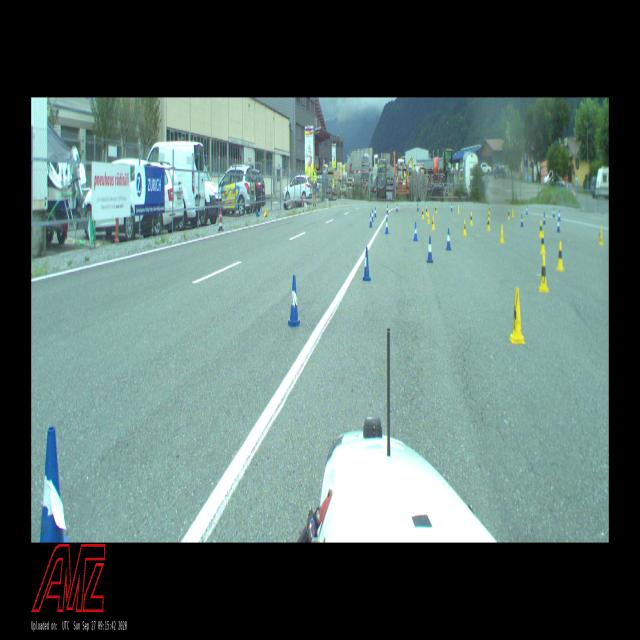blue_cone: (40, 426, 71, 542), (287, 276, 301, 326), (363, 248, 371, 281), (427, 236, 433, 263), (446, 228, 452, 251), (413, 222, 418, 241), (384, 217, 388, 234), (556, 218, 560, 232), (369, 213, 373, 227), (520, 215, 524, 228), (543, 212, 546, 225), (374, 207, 377, 217), (372, 209, 374, 222), (559, 210, 561, 222), (553, 208, 555, 218), (526, 205, 528, 215), (396, 203, 398, 212), (450, 203, 452, 212), (386, 205, 388, 214), (417, 203, 419, 212)
unknown_cone: (218, 202, 224, 231)
yellow_cone: (509, 287, 525, 344), (539, 255, 548, 292), (556, 242, 564, 270), (540, 231, 546, 254), (598, 226, 604, 245), (499, 224, 504, 243), (462, 220, 467, 236), (538, 220, 542, 238), (486, 217, 491, 230), (431, 216, 435, 230), (470, 212, 473, 225), (427, 211, 430, 224), (507, 209, 510, 219), (457, 204, 460, 213), (422, 208, 424, 219), (488, 211, 490, 222), (426, 206, 428, 216), (435, 204, 437, 213), (512, 208, 514, 216), (489, 205, 490, 214)
